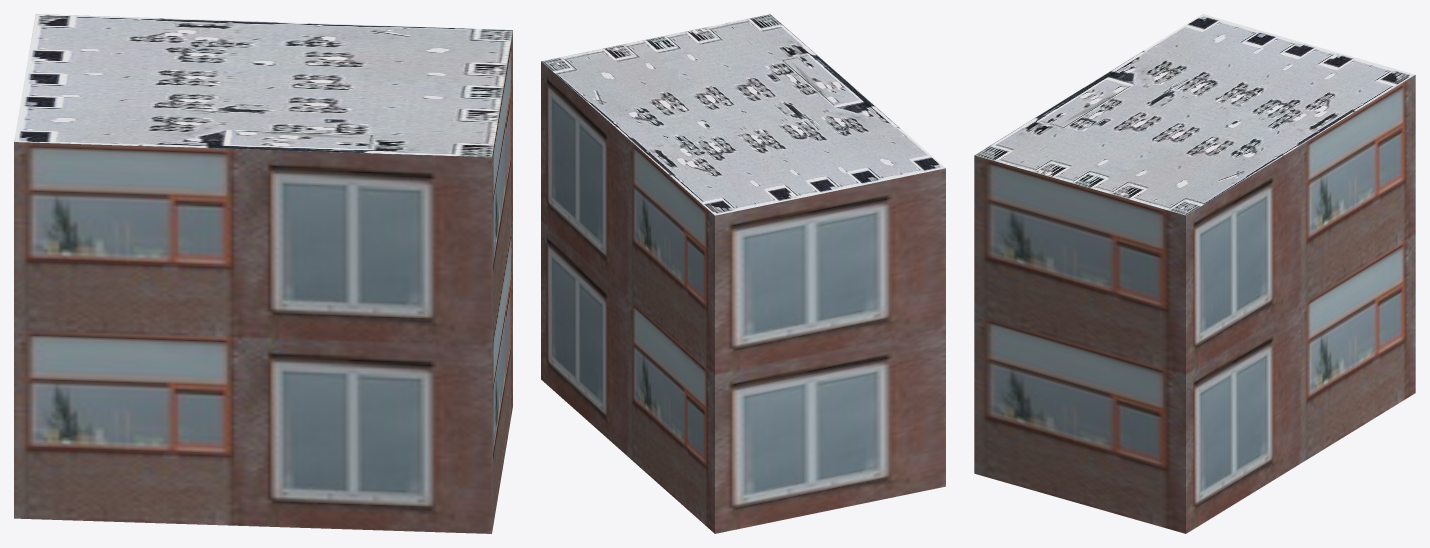
File: ResTex__4930.fbx
The picture shows the model from 3 angles, left to right: view 1: azimuth 30°, elevation 25°; view 2: azimuth 150°, elevation 25°; view 3: azimuth 270°, elevation 25°; orthographic projection. The views are drawn at different scales.
Visible parts, largest first — view 1: CityEngineMaterial_19_m, CityEngineMaterial_15_m; view 2: CityEngineMaterial_19_m, CityEngineMaterial_15_m; view 3: CityEngineMaterial_19_m, CityEngineMaterial_15_m.
Boxes of the visible parts, x1,y1,x2,y2 form: CityEngineMaterial_19_m: (14,31,512,533); CityEngineMaterial_15_m: (14,14,512,157); CityEngineMaterial_19_m: (541,61,945,533); CityEngineMaterial_15_m: (541,14,945,215); CityEngineMaterial_19_m: (974,75,1415,533); CityEngineMaterial_15_m: (975,14,1415,215).
Bounding box in the file's own units: 8.15 × 6 × 7.54.
2 materials, 2 textured.
